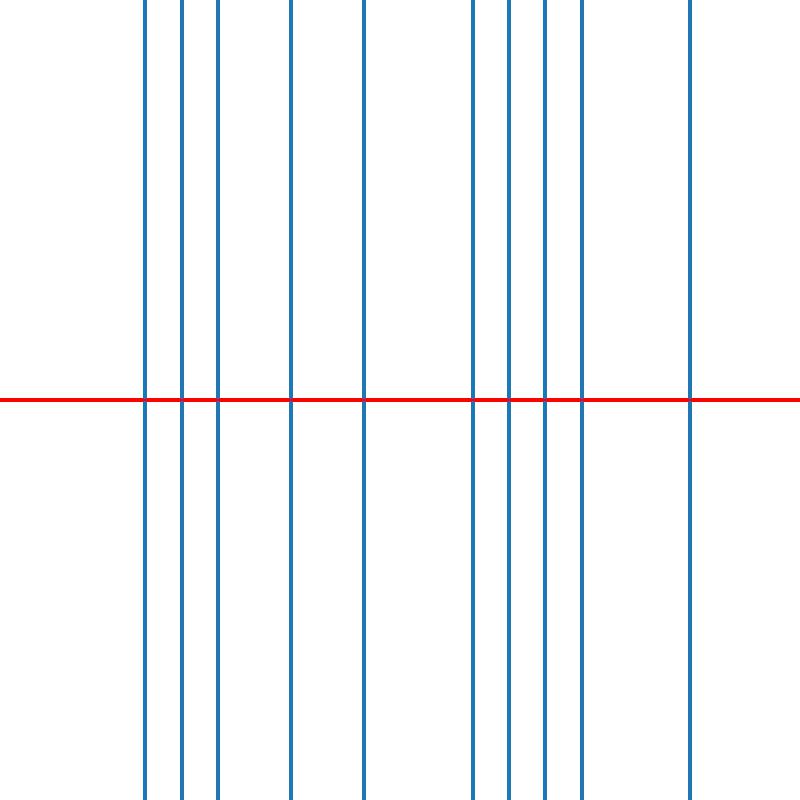root: (541, 396, 549, 404), (141, 396, 149, 404), (469, 396, 476, 404), (578, 396, 585, 404), (505, 396, 512, 404), (287, 396, 294, 404), (178, 396, 185, 404), (687, 396, 694, 404), (360, 396, 367, 404), (214, 396, 221, 404)
